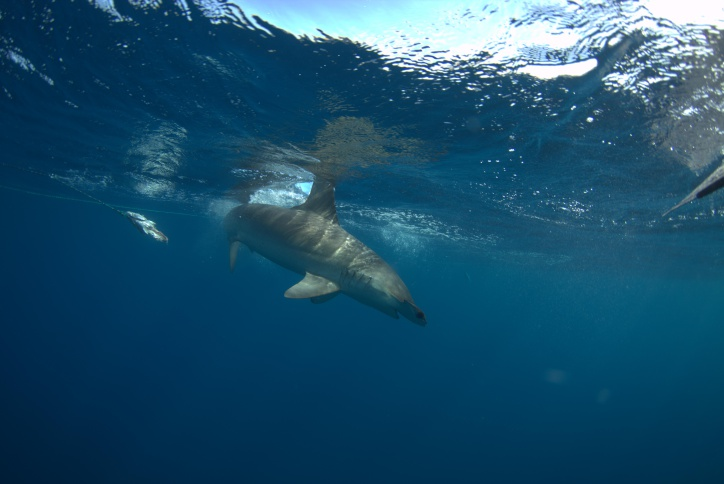Hammer: (198, 167, 451, 335)
